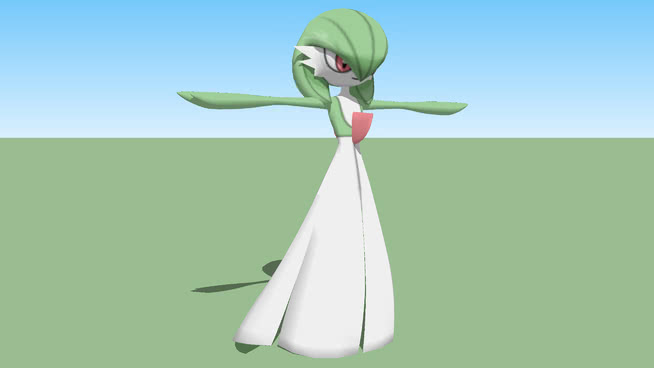gardevoir: (176, 7, 469, 362)
